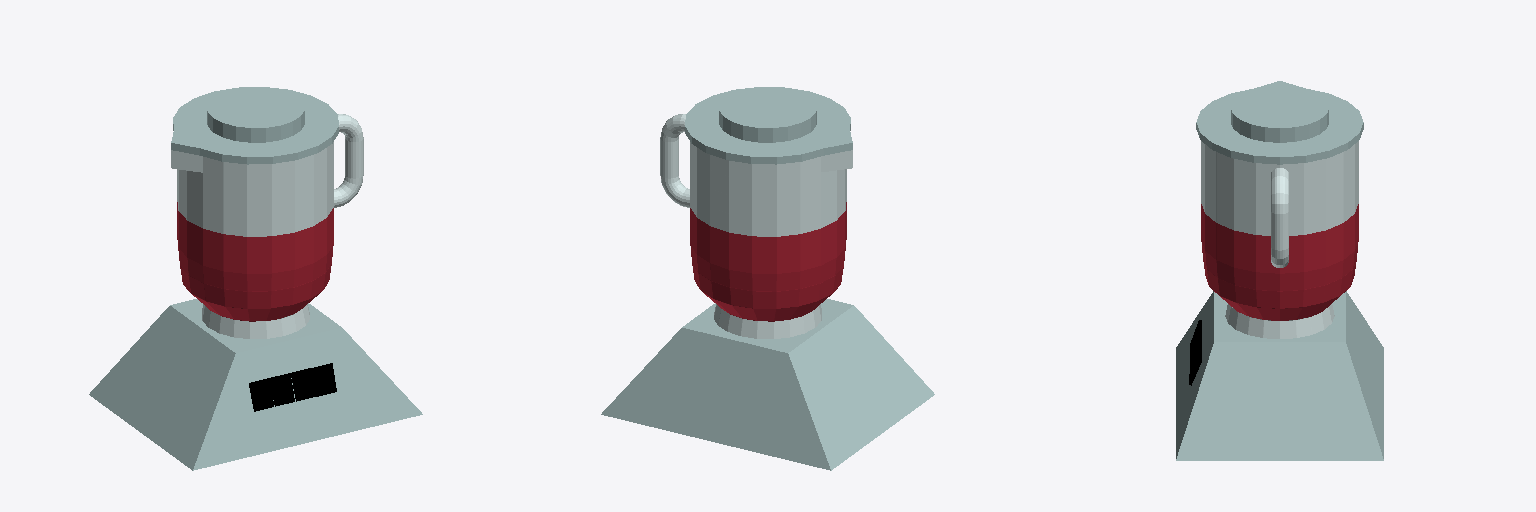
The picture shows the model from 3 angles: view 1: azimuth 30°, elevation 25°; view 2: azimuth 150°, elevation 25°; view 3: azimuth 270°, elevation 25°; orthographic projection.
Parts seen in each view (by area): view 1: polySurface8; view 2: polySurface8; view 3: polySurface8.
Boxes of the visible parts, box(x1,y1,x2,y2) form: polySurface8: box(89, 87, 422, 470); polySurface8: box(601, 87, 934, 470); polySurface8: box(1176, 81, 1383, 460).
Bounding box in the file's own units: 0.2664 × 0.3279 × 0.2085.
Materials: 4 (3 with a texture image).